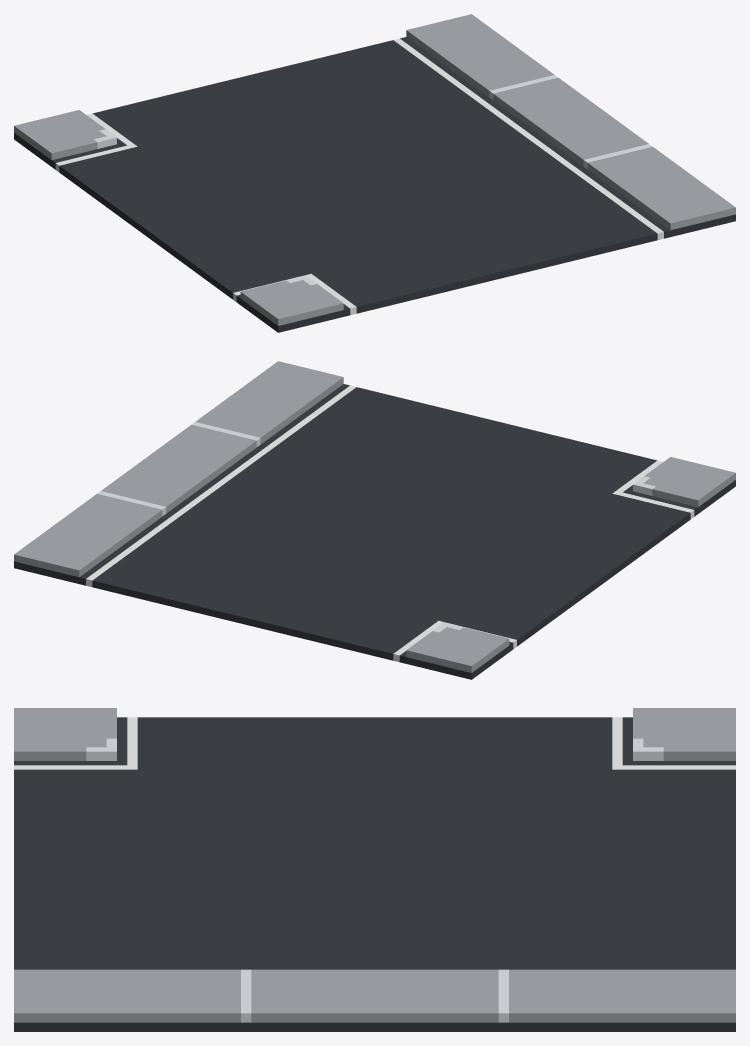
Rendered from cornerv1.obj.
The picture shows the model from 3 angles, top to bottom: view 1: azimuth 30°, elevation 25°; view 2: azimuth 150°, elevation 25°; view 3: azimuth 270°, elevation 25°; orthographic projection. The views are drawn at different scales.
Size of the model in its own units: 7 by 0.2 by 7.
1 material, 1 textured.
